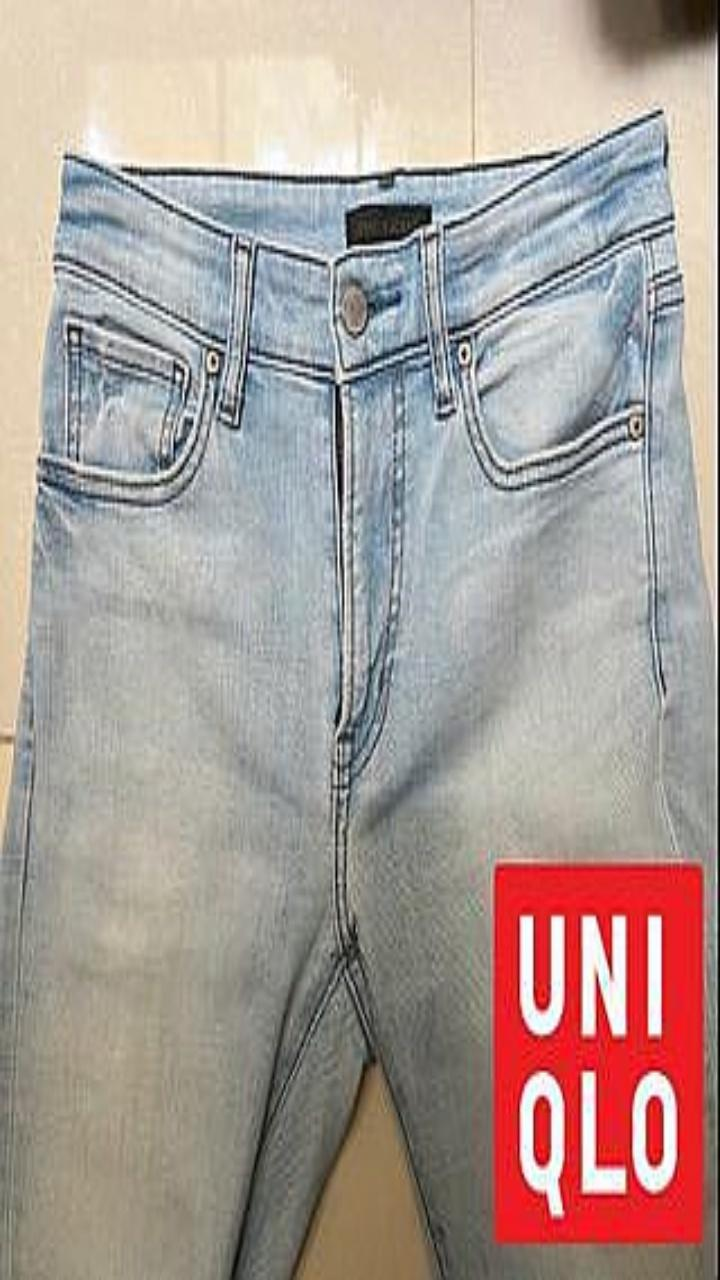Jeans: (0, 108, 716, 1279)
